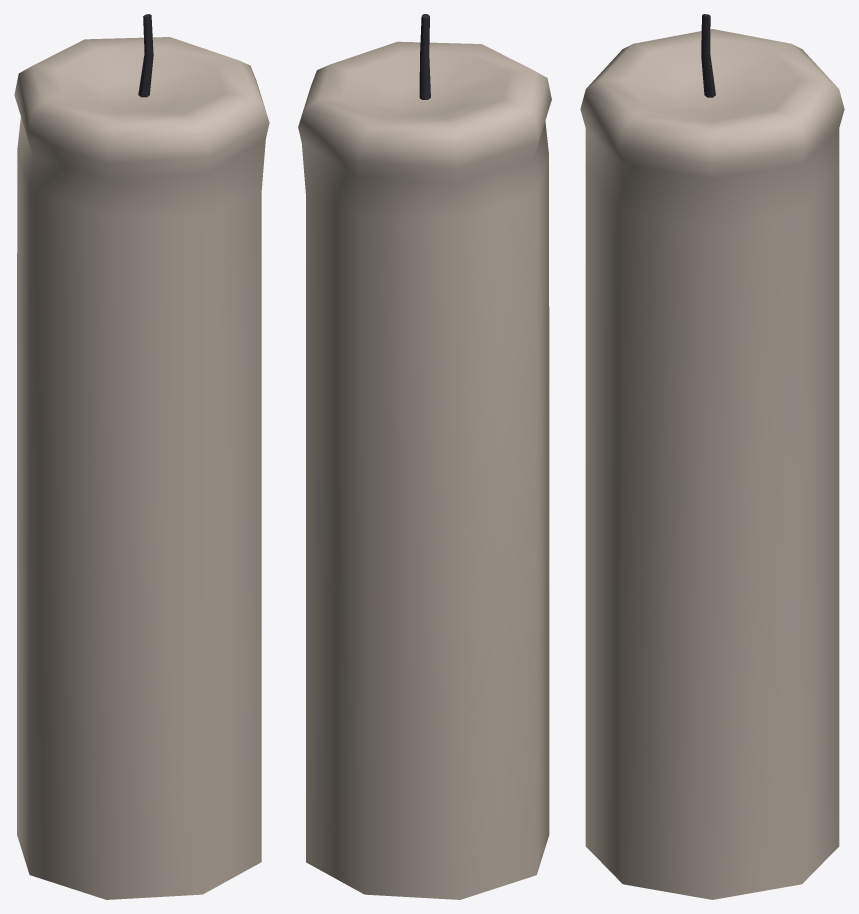
The model's file is Candle_01_Large.fbx.
3 views of the same model, side by side, from view 1: azimuth 30°, elevation 25°; view 2: azimuth 150°, elevation 25°; view 3: azimuth 270°, elevation 25° (orthographic).
Visible parts, largest first — view 1: Candle_01_Large; view 2: Candle_01_Large; view 3: Candle_01_Large.
Boxes of the visible parts, left/top/right/bottom form: Candle_01_Large: left=14, top=14, right=269, bottom=899; Candle_01_Large: left=298, top=14, right=551, bottom=899; Candle_01_Large: left=580, top=14, right=844, bottom=899.
Bounding box in the file's own units: 0.0411 × 0.143 × 0.0411.
